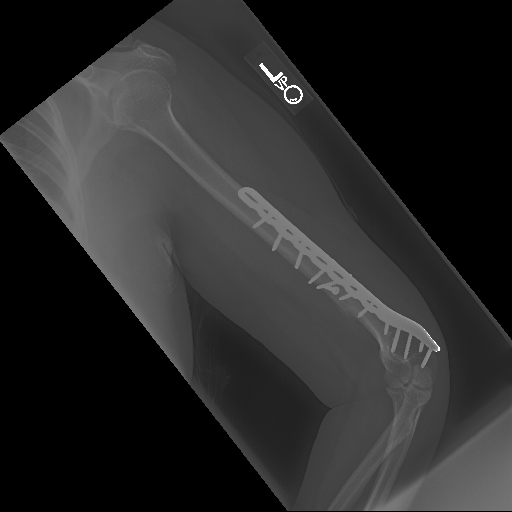implant: (235, 184, 441, 371)
